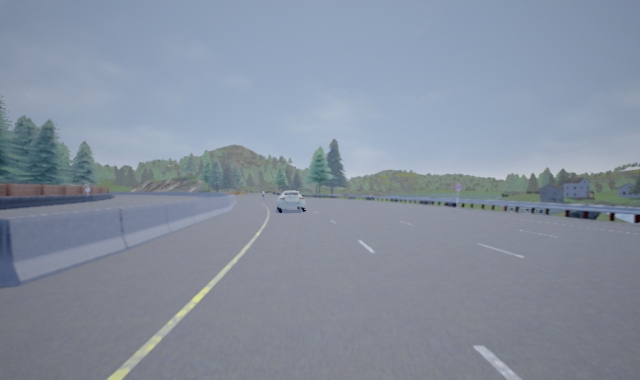vehicle: (275, 190, 306, 213)
